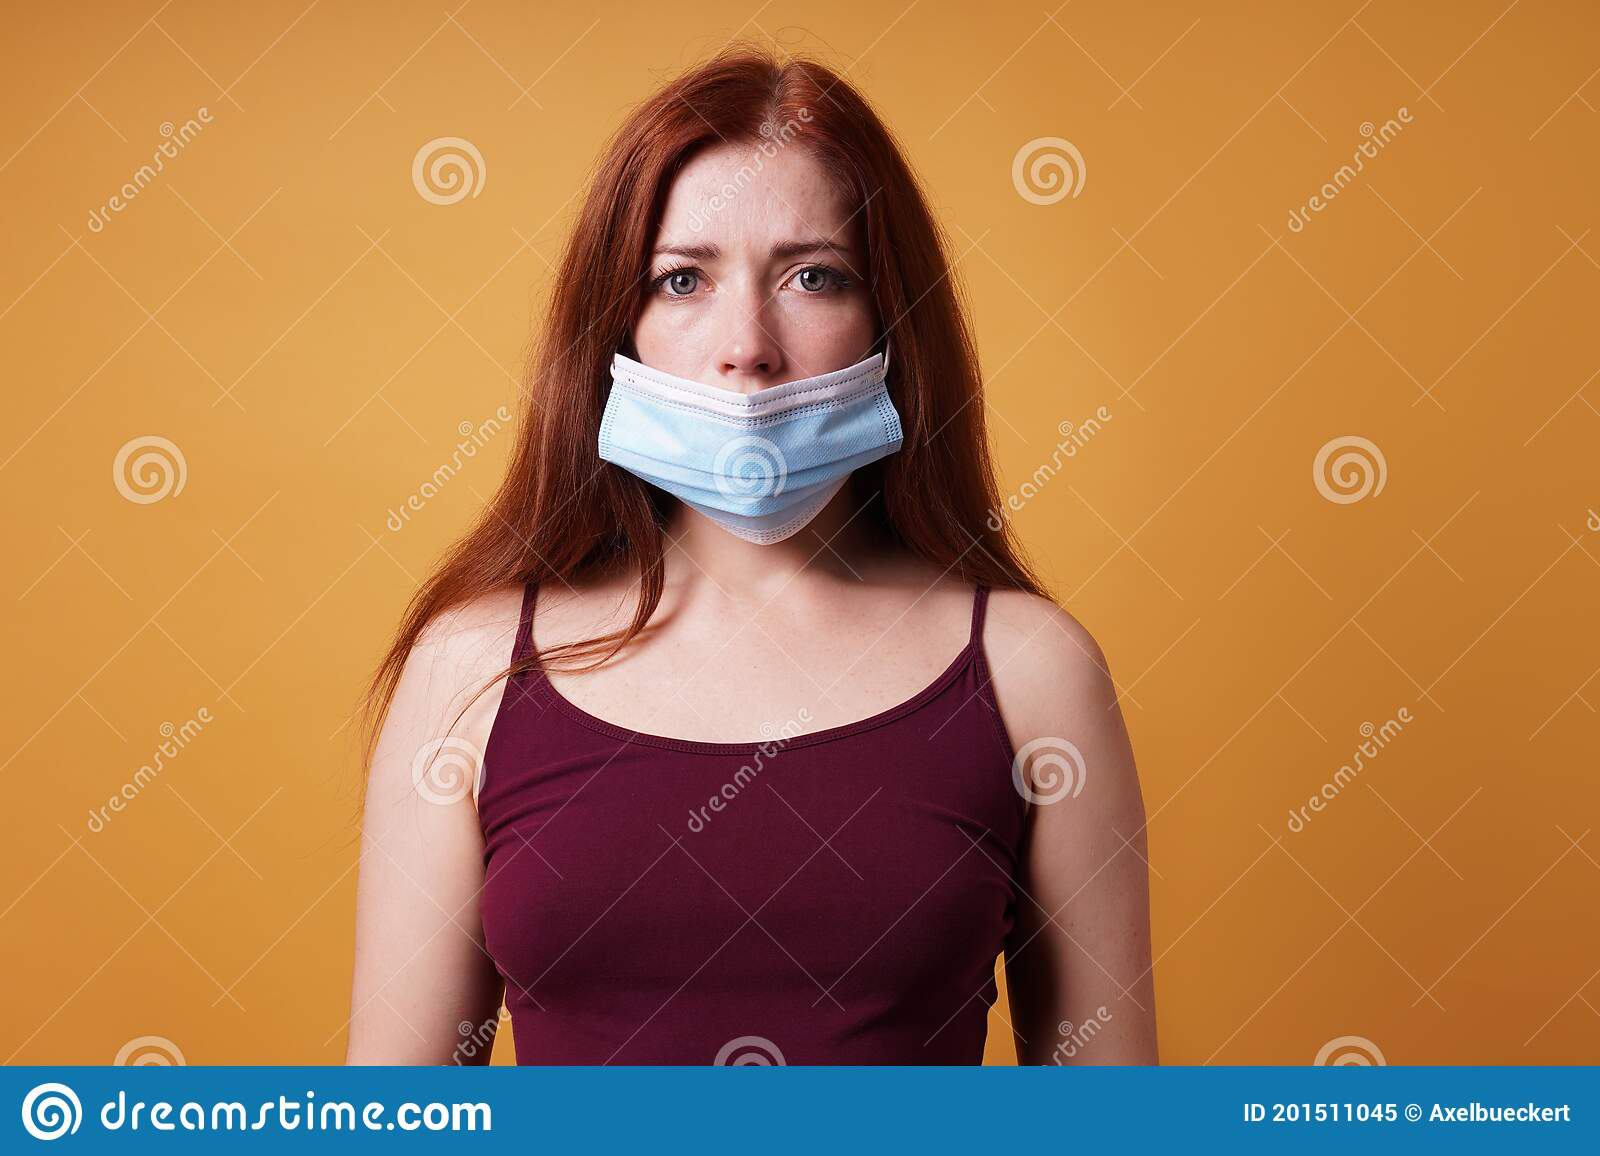mask_weared_incorrect: (613, 251, 891, 537)
